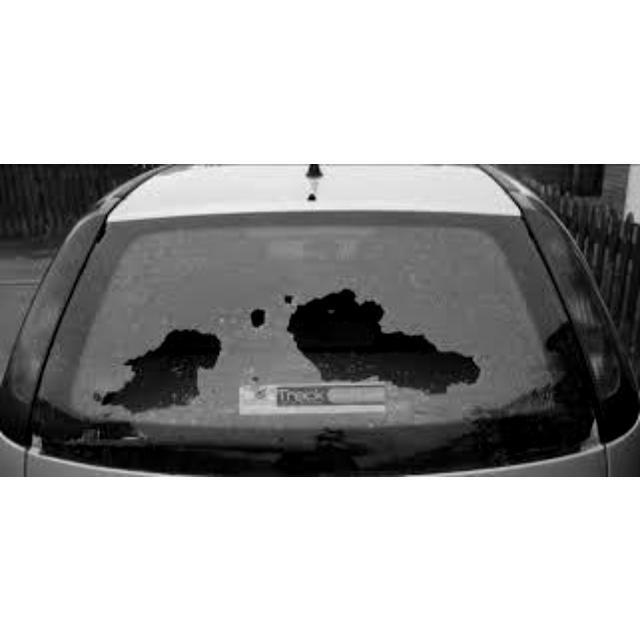Rear-windscreen-Damage: (52, 193, 598, 474)
